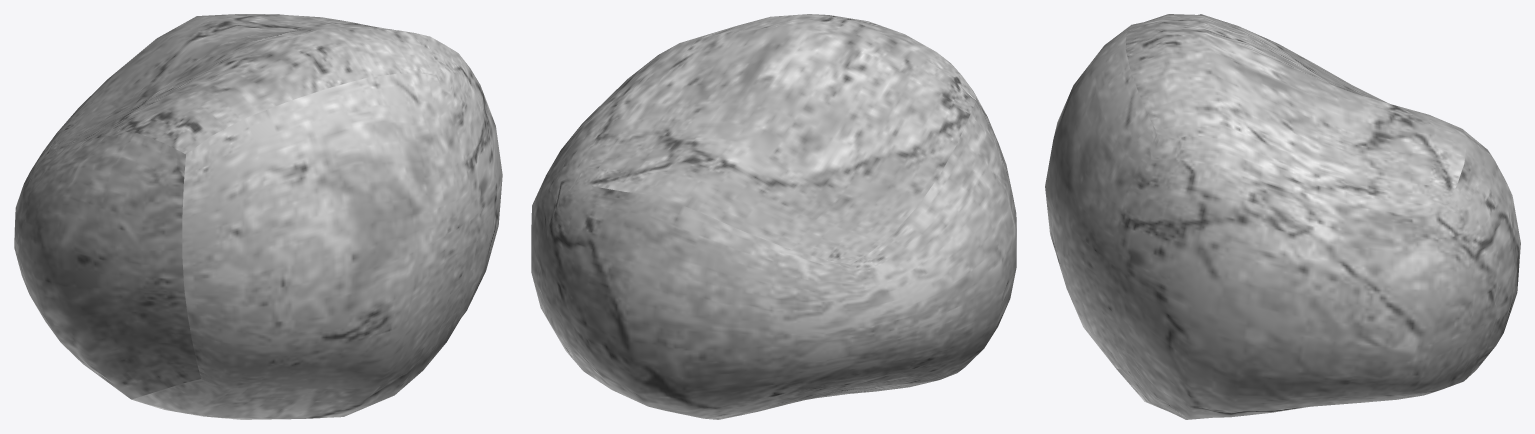
The model's file is rockvar1.fbx.
The picture shows the model from 3 angles, left to right: view 1: azimuth 30°, elevation 25°; view 2: azimuth 150°, elevation 25°; view 3: azimuth 270°, elevation 25°; orthographic projection. The views are drawn at different scales.
Visible parts, largest first — view 1: Rockvar1; view 2: Rockvar1; view 3: Rockvar1.
Part boxes in pixels (x1,y1,x2,y2): Rockvar1: (14,14,502,419); Rockvar1: (531,14,1016,419); Rockvar1: (1045,14,1520,419).
Size of the model in its own units: 56.19 by 44.79 by 53.59.
